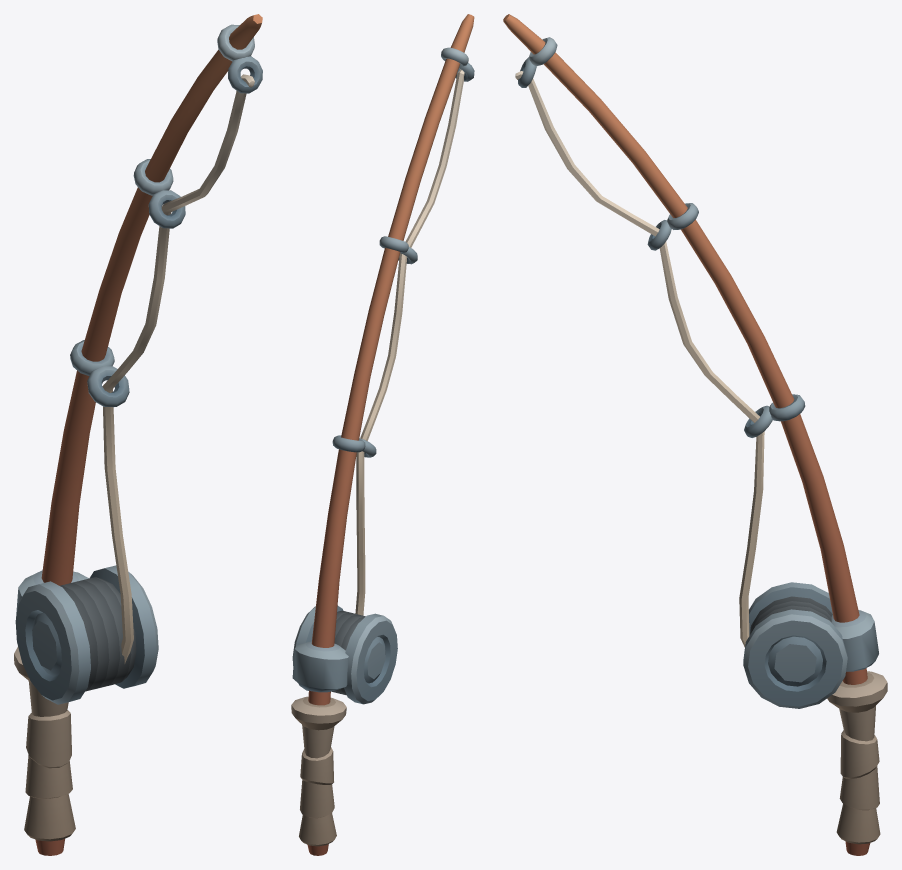
The model's file is fishing_rod.obj.
3 views of the same model, side by side, from view 1: azimuth 30°, elevation 25°; view 2: azimuth 150°, elevation 25°; view 3: azimuth 270°, elevation 25° (orthographic). The views are drawn at different scales.
Parts seen in each view (by area): view 1: fishing_rod; view 2: fishing_rod; view 3: fishing_rod.
Boxes of the visible parts, x1,y1,x2,y2 form: fishing_rod: [14, 14, 262, 855]; fishing_rod: [291, 14, 474, 855]; fishing_rod: [503, 14, 887, 855].
Size of the model in its own units: 0.2394 by 2.61 by 1.08.
Materials: 1 (1 with a texture image).
